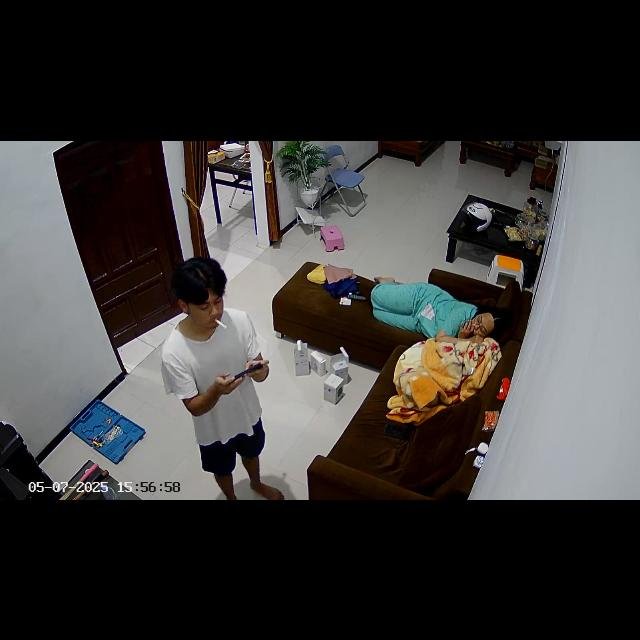rokok: (214, 318, 228, 330)
